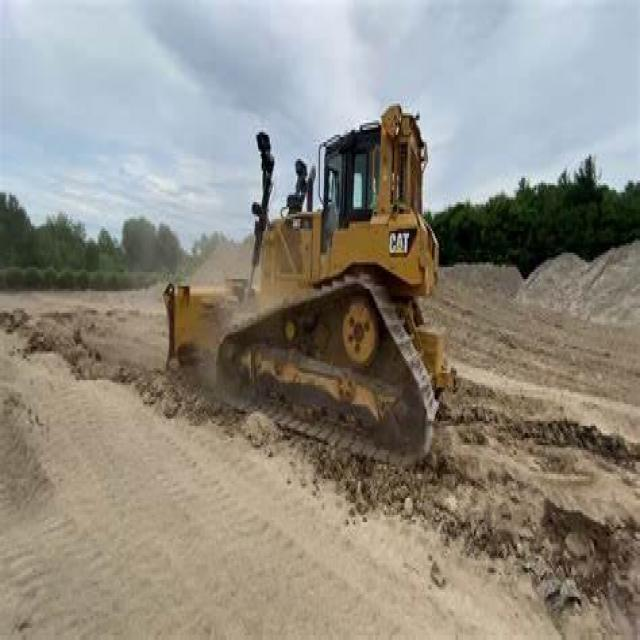Bulldozer: (145, 75, 500, 534)
